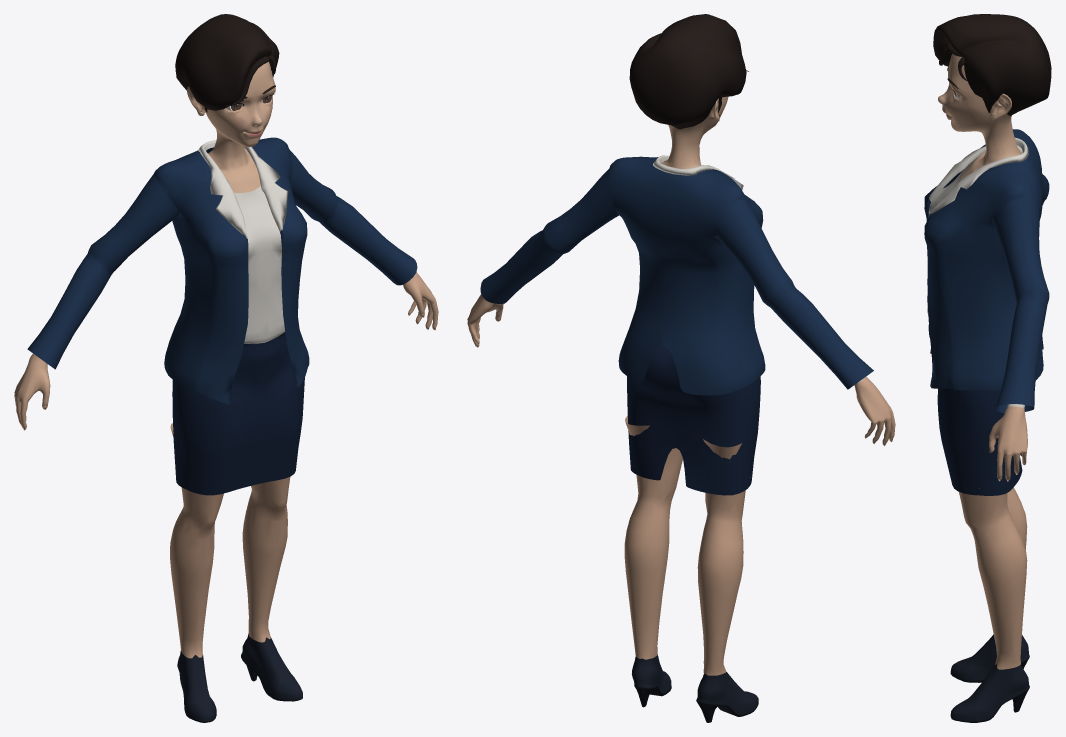
The picture shows the model from 3 angles, left to right: view 1: azimuth 30°, elevation 25°; view 2: azimuth 150°, elevation 25°; view 3: azimuth 270°, elevation 25°; orthographic projection.
Parts seen in each view (by area): view 1: geo_body_mesh_body; view 2: geo_body_mesh_body; view 3: geo_body_mesh_body.
Boxes of the visible parts, left/top/right/bottom form: geo_body_mesh_body: left=14, top=14, right=438, bottom=722; geo_body_mesh_body: left=467, top=14, right=895, bottom=722; geo_body_mesh_body: left=924, top=14, right=1051, bottom=722.
Bounding box in the file's own units: 4.67 × 7.22 × 1.22.
